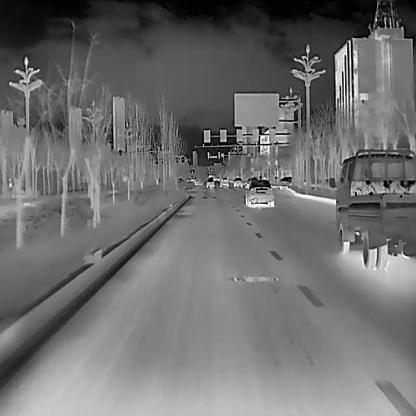car: (244, 179, 274, 206), (277, 176, 292, 188), (218, 175, 229, 187), (233, 176, 242, 187), (206, 176, 214, 187)
truck: (328, 146, 414, 270)
